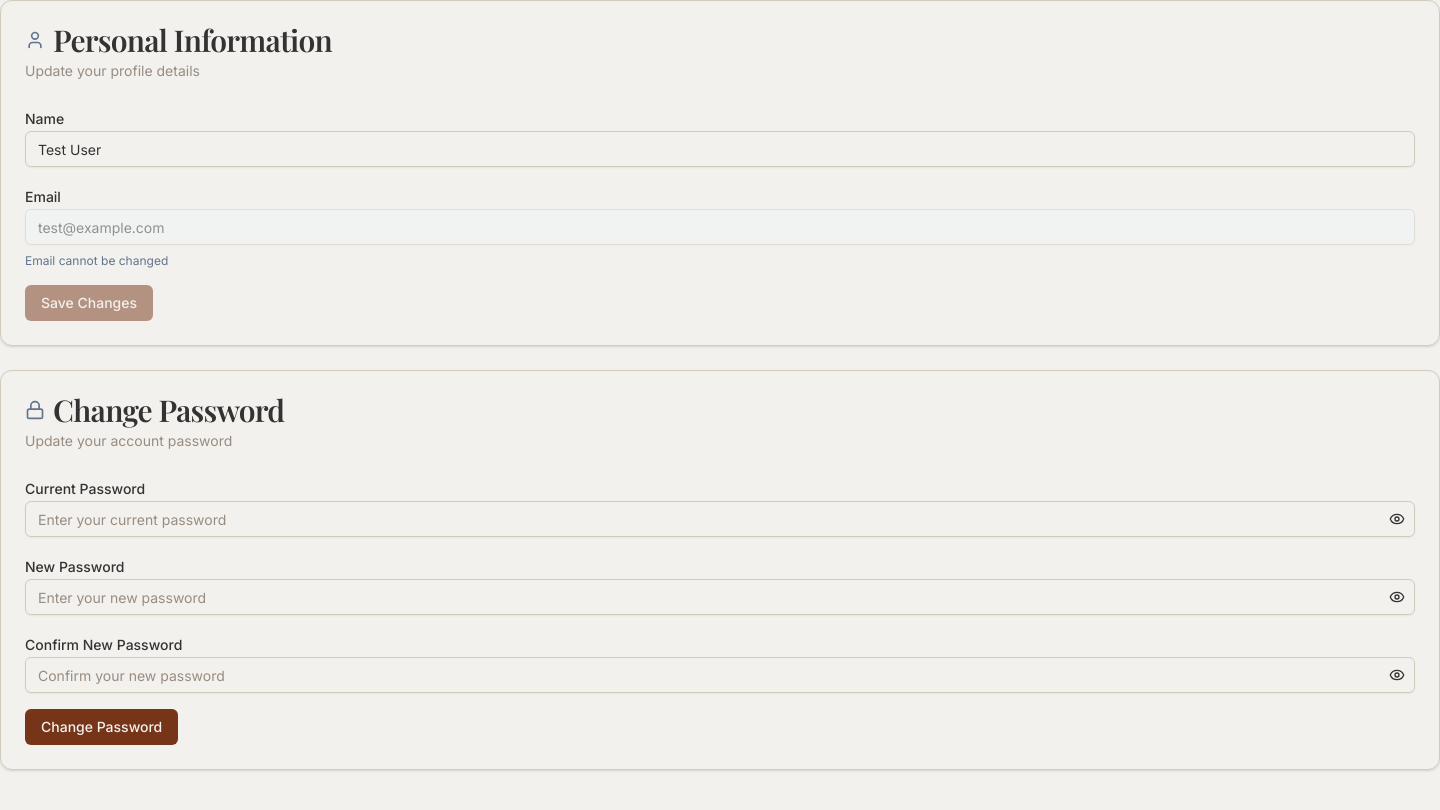
Test: ProfileEditForm › Profile Update › validates name is required
Clear the field labelled "Name" at (720, 149), box [25, 131, 1415, 167]
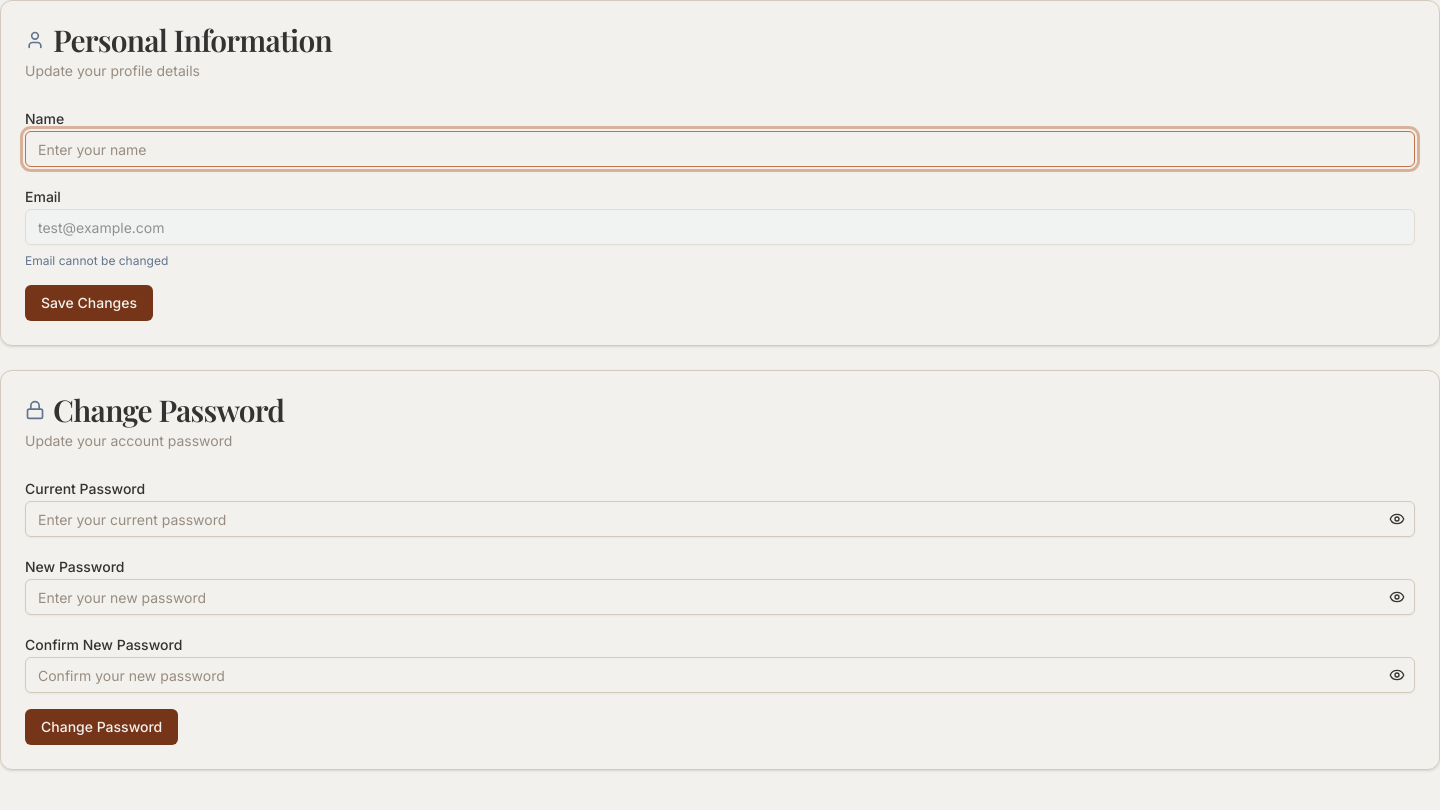
Click the button "Save Changes".
click(89, 303)  # box [25, 285, 153, 321]
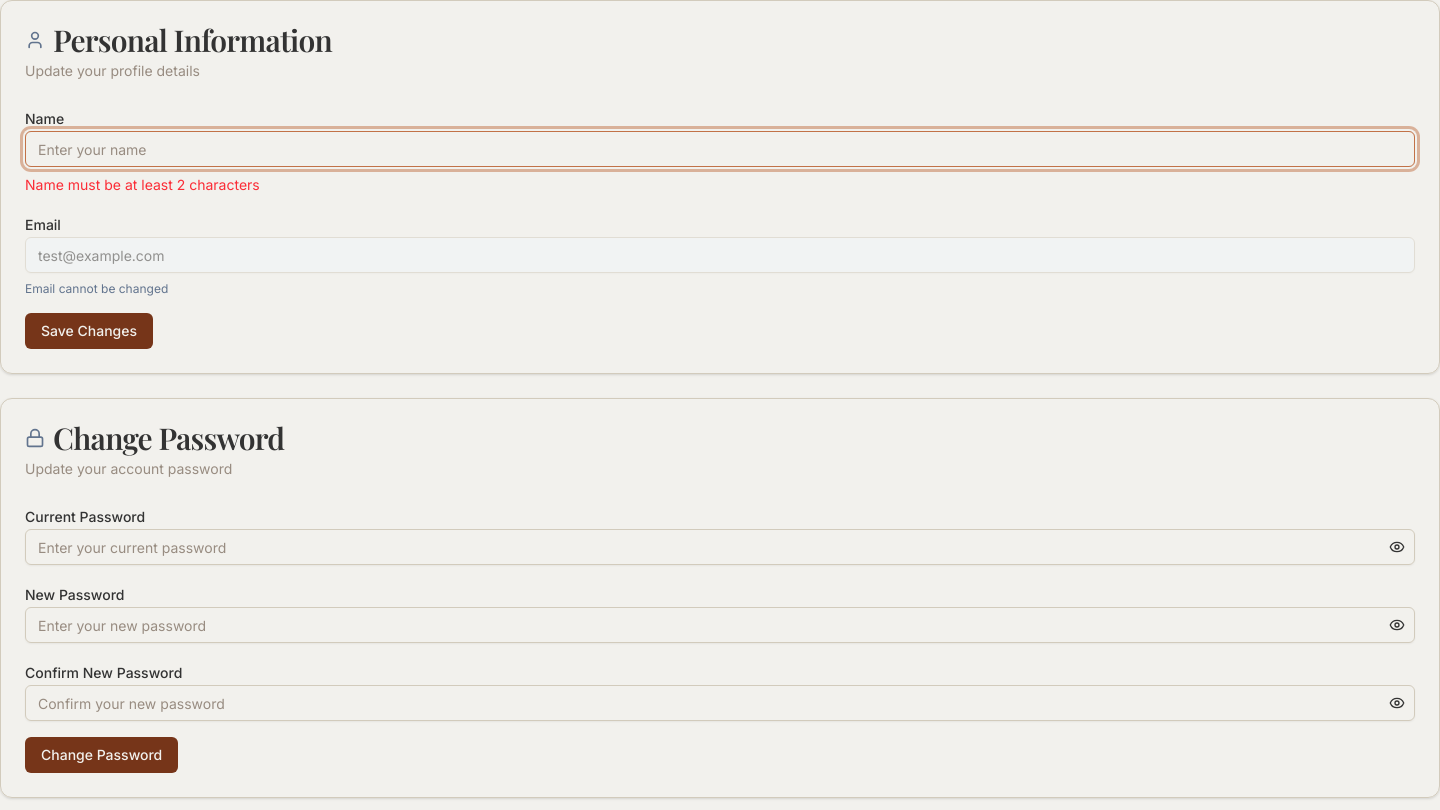
Expected: the text "Name must be at least 2 characters" is shown, [25, 176, 260, 193]
